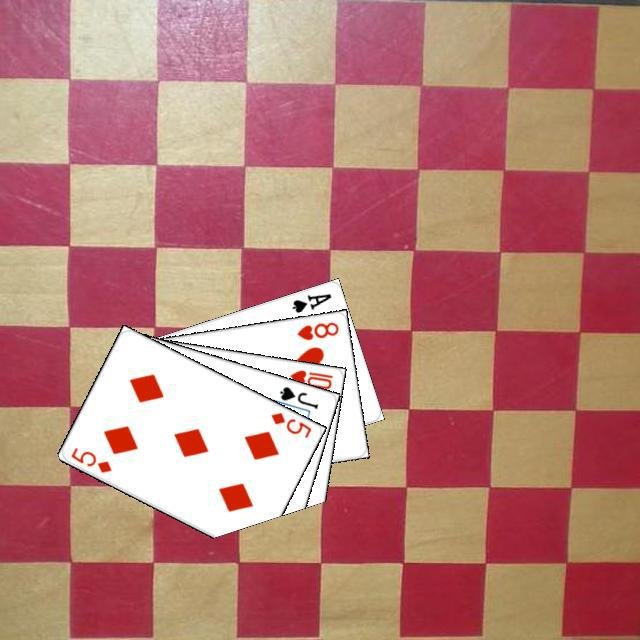10h: (285, 365, 335, 391)
5d: (266, 407, 313, 440), (66, 442, 113, 475)
8h: (292, 317, 340, 342)
As: (287, 289, 333, 315)
Js: (275, 382, 320, 410)
